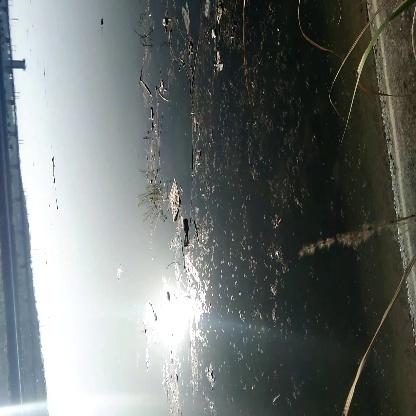plastic-garbage: (163, 174, 193, 220)
